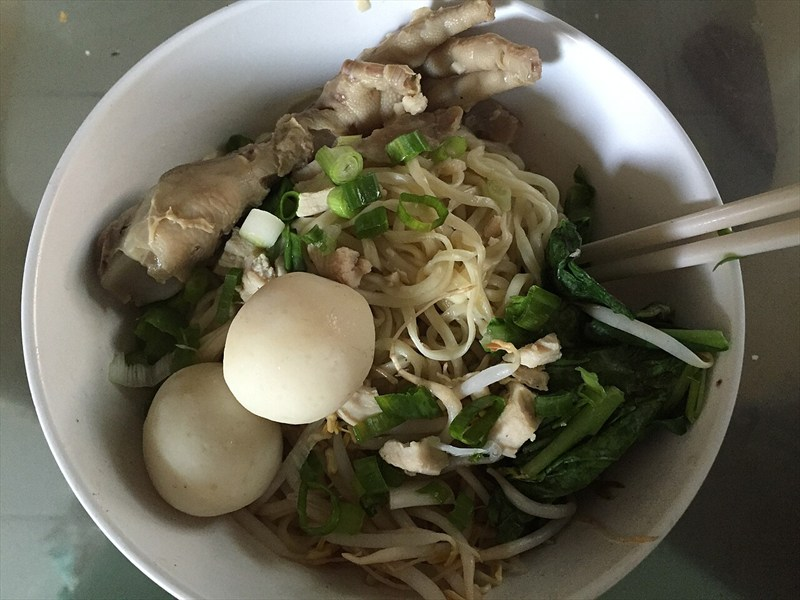Bakso: (87, 12, 713, 481)
